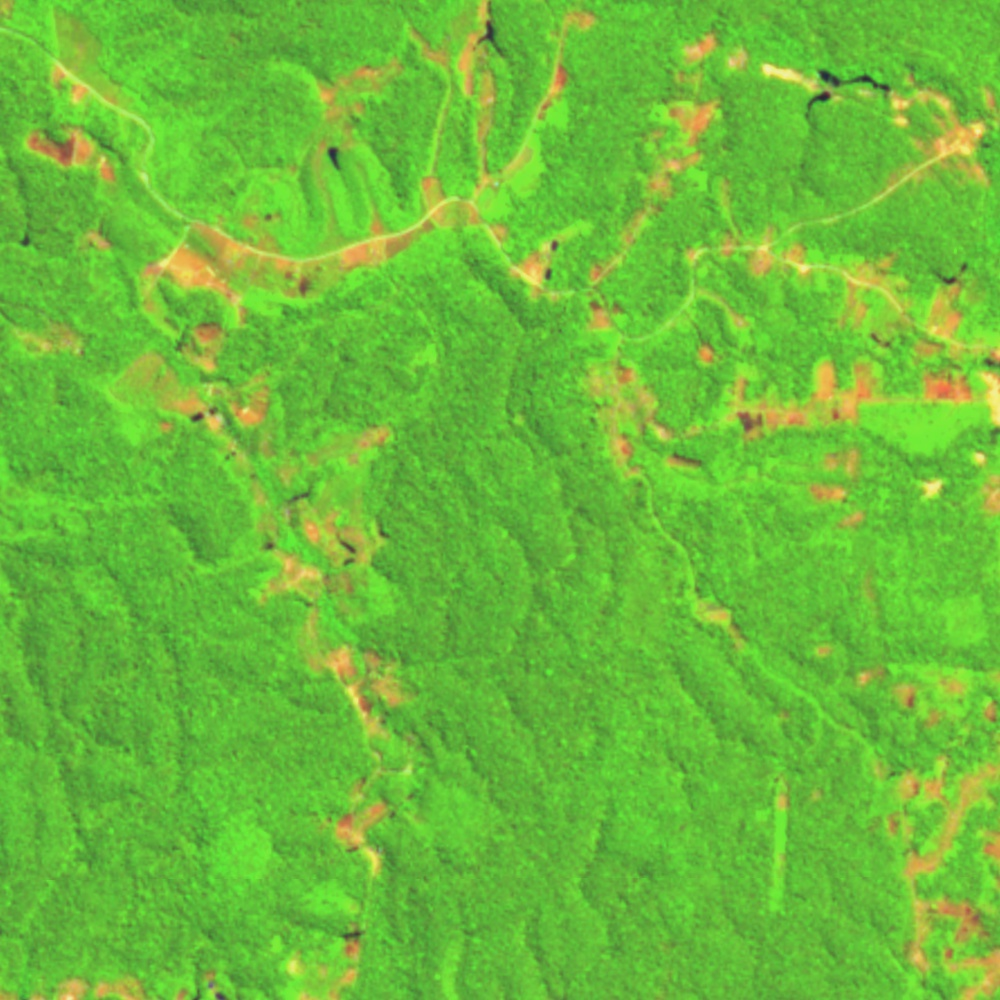legal: (113, 347, 395, 609), (137, 189, 481, 347), (138, 200, 581, 301), (727, 45, 1000, 190), (726, 225, 1000, 364), (585, 30, 722, 286), (864, 752, 1000, 999), (726, 364, 1000, 440), (303, 639, 427, 777), (301, 49, 411, 187), (581, 352, 709, 466), (852, 660, 1000, 731), (50, 2, 125, 108), (458, 1, 505, 166), (324, 777, 397, 880), (6, 967, 227, 1000), (285, 917, 371, 1000), (17, 125, 122, 185), (913, 446, 1000, 511), (809, 442, 873, 529), (6, 309, 102, 356), (690, 590, 751, 651), (402, 12, 460, 75), (768, 773, 792, 915), (701, 293, 753, 330), (578, 294, 630, 327), (81, 220, 110, 250), (813, 638, 837, 654), (1, 1, 17, 20)
